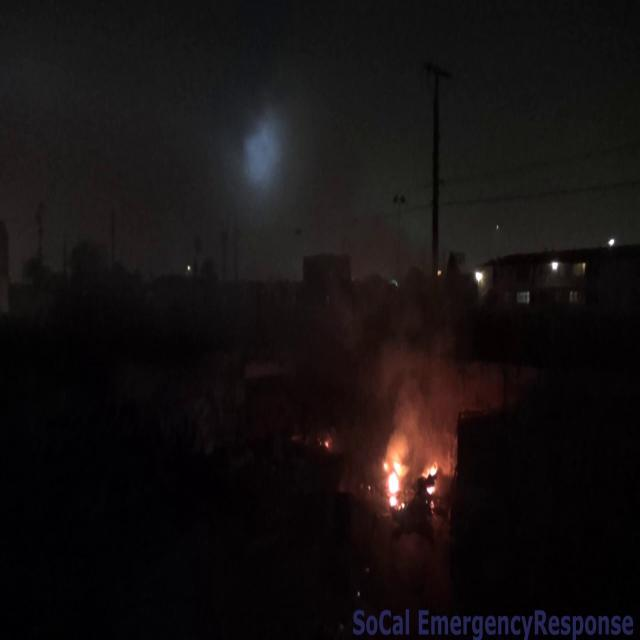Fire: (381, 431, 442, 505)
Smoke: (374, 308, 491, 444)
